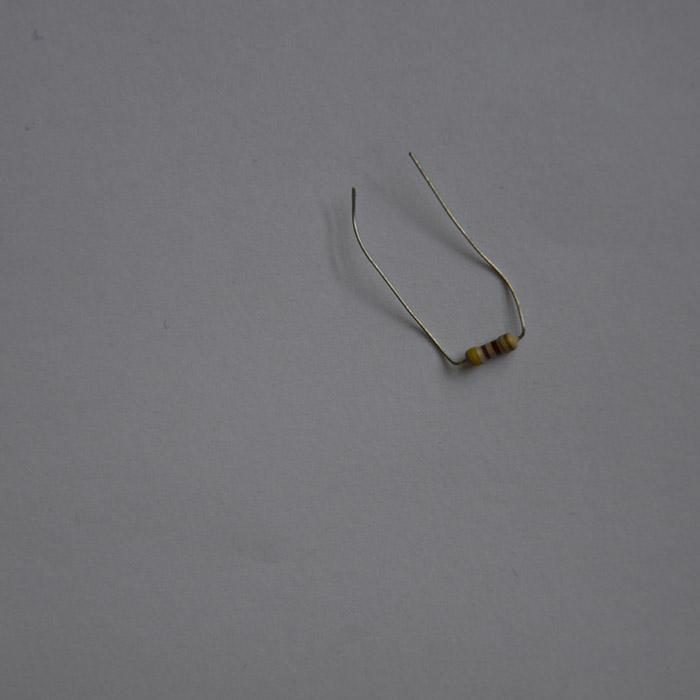resistor: (464, 332, 519, 365)
